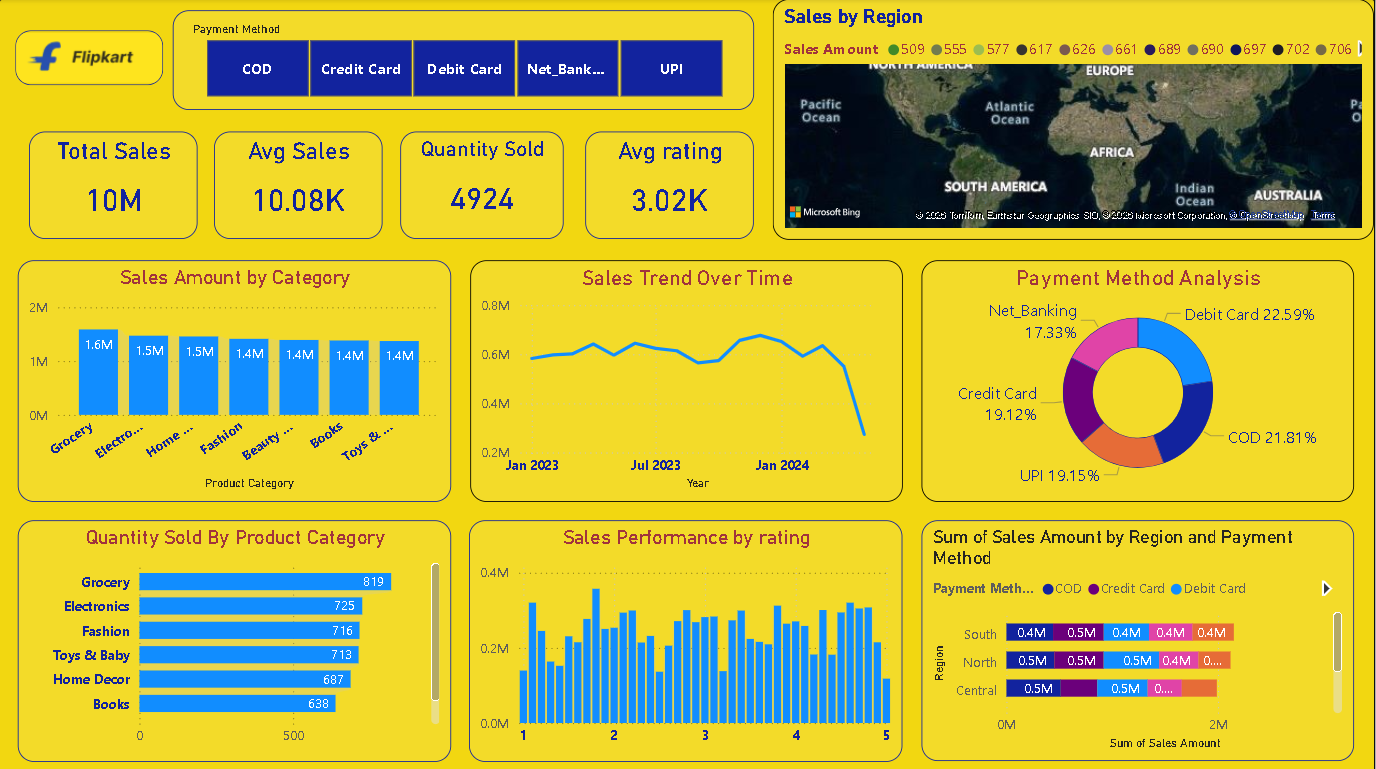

The dashboard page shown, as its layout file describes it:
{"tool":"powerbi","page":{"name":"Page 1","canvas":[1280,720],"ordinal":0},"visuals":[{"type":"image","box":[15.1,29.1,137.2,51.2],"z":0},{"type":"card","title":"Total Sales","fields":{"Values":["Sum(Sheet1.Sales Amount)"]},"box":[27.9,123.3,157,100],"z":1000},{"type":"card","title":"Avg Sales","fields":{"Values":["Avg(Sheet1.Sales Amount)"]},"box":[200.3,123.5,156.4,100.2],"z":2000},{"type":"card","title":"Quantity Sold","fields":{"Values":["Sum(Sheet1.Quantity Sold)"]},"box":[373.2,123.5,152.3,100.2],"z":3000},{"type":"card","title":"Avg rating","fields":{"Values":["Sum(Sheet1.Customer Rating)"]},"box":[544.8,123.5,156.4,100.2],"z":4000},{"type":"filledMap","title":"Sales by Region","fields":{"Category":["Sheet1.Region"],"Series":["Sheet1.Sales Amount"]},"box":[719.3,0,559.6,223.7],"z":5000},{"type":"columnChart","title":"Sales Amount by Category","fields":{"Category":["Sheet1.Product Category"],"Y":["Sum(Sheet1.Sales Amount)"]},"box":[17.4,243,403.5,224.4],"z":6000},{"type":"lineChart","title":"Sales Trend Over Time","fields":{"Category":["Sheet1.Order Date.Variation.Date Hierarchy.Year","Sheet1.Order Date.Variation.Date Hierarchy.Quarter","Sheet1.Order Date.Variation.Date Hierarchy.Month","Sheet1.Order Date.Variation.Date Hierarchy.Day"],"Y":["Sum(Sheet1.Sales Amount)"]},"box":[438.4,243,402.3,224.4],"z":7000},{"type":"donutChart","title":"Payment Method Analysis","fields":{"Category":["Sheet1.Payment Method"],"Y":["Sum(Sheet1.Sales Amount)"]},"box":[858.1,243,402.3,224.4],"z":8000},{"type":"barChart","title":"Quantity Sold By Product Category","fields":{"Y":["Sum(Sheet1.Quantity Sold)"],"Category":["Sheet1.Product Category"]},"box":[17.4,484.9,403.5,224.4],"z":9000},{"type":"columnChart","title":"Sales Performance by rating","fields":{"Category":["Sheet1.Customer Rating"],"Y":["Sum(Sheet1.Sales Amount)"]},"box":[437.2,484.9,403.5,224.4],"z":10000},{"type":"slicer","fields":{"Values":["Sheet1.Payment Method"]},"box":[161.6,10.5,540.7,93],"z":11000},{"type":"barChart","fields":{"Category":["Sheet1.Region"],"Y":["Sum(Sheet1.Sales Amount)"],"Series":["Sheet1.Payment Method"]},"box":[858,485,402,224],"z":12000}]}

Visuals, with their boxes in screenshot pixels (x1, y1, x2, y2), scaled from the page's 1280x720 canvas onto the 1376x769 screenshot:
image: left=16, top=31, right=164, bottom=86
"Total Sales" card: left=30, top=132, right=199, bottom=238
"Avg Sales" card: left=215, top=132, right=383, bottom=239
"Quantity Sold" card: left=401, top=132, right=565, bottom=239
"Avg rating" card: left=586, top=132, right=754, bottom=239
"Sales by Region" filledMap: left=773, top=0, right=1375, bottom=239
"Sales Amount by Category" columnChart: left=19, top=260, right=452, bottom=499
"Sales Trend Over Time" lineChart: left=471, top=260, right=904, bottom=499
"Payment Method Analysis" donutChart: left=922, top=260, right=1355, bottom=499
"Quantity Sold By Product Category" barChart: left=19, top=518, right=452, bottom=758
"Sales Performance by rating" columnChart: left=470, top=518, right=904, bottom=758
slicer - Sheet1.Payment Method: left=174, top=11, right=755, bottom=111
barChart - Sheet1.Region x Sum(Sheet1.Sales Amount): left=922, top=518, right=1354, bottom=757
